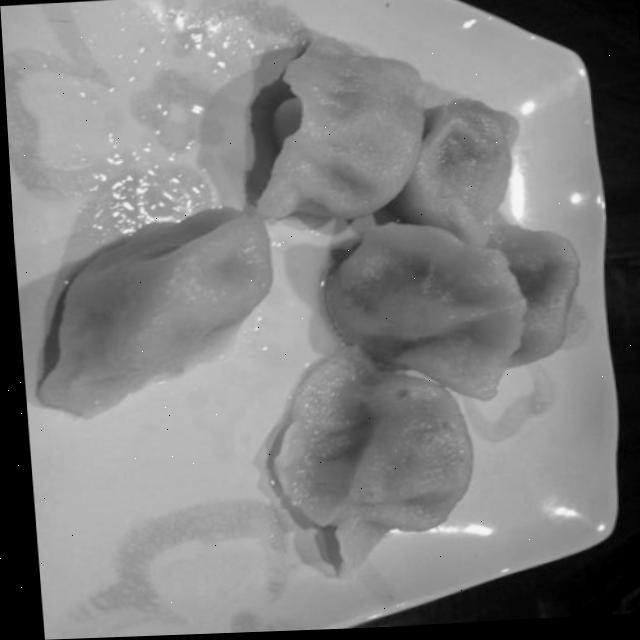带馅早点: (34, 0, 610, 602)
